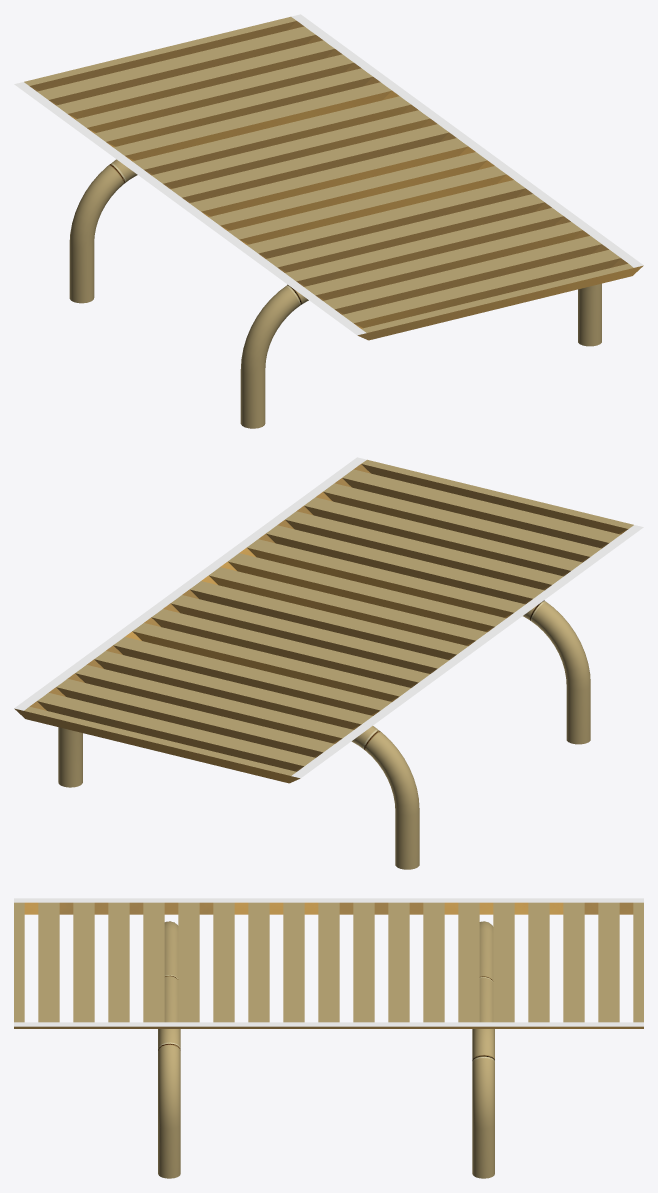
Rendered from Small_Floorgrate_B.fbx.
3 renders of one model, top to bottom at view 1: azimuth 30°, elevation 25°; view 2: azimuth 150°, elevation 25°; view 3: azimuth 270°, elevation 25°, orthographic. The views are drawn at different scales.
Parts seen in each view (by area): view 1: Small_Floorgrate_B; view 2: Small_Floorgrate_B; view 3: Small_Floorgrate_B.
Part boxes in pixels (<box>): Small_Floorgrate_B: <box>14,14,643,428</box>; Small_Floorgrate_B: <box>14,457,643,869</box>; Small_Floorgrate_B: <box>14,898,643,1178</box>.
Bounding box in the file's own units: 2.41 × 0.9342 × 4.
